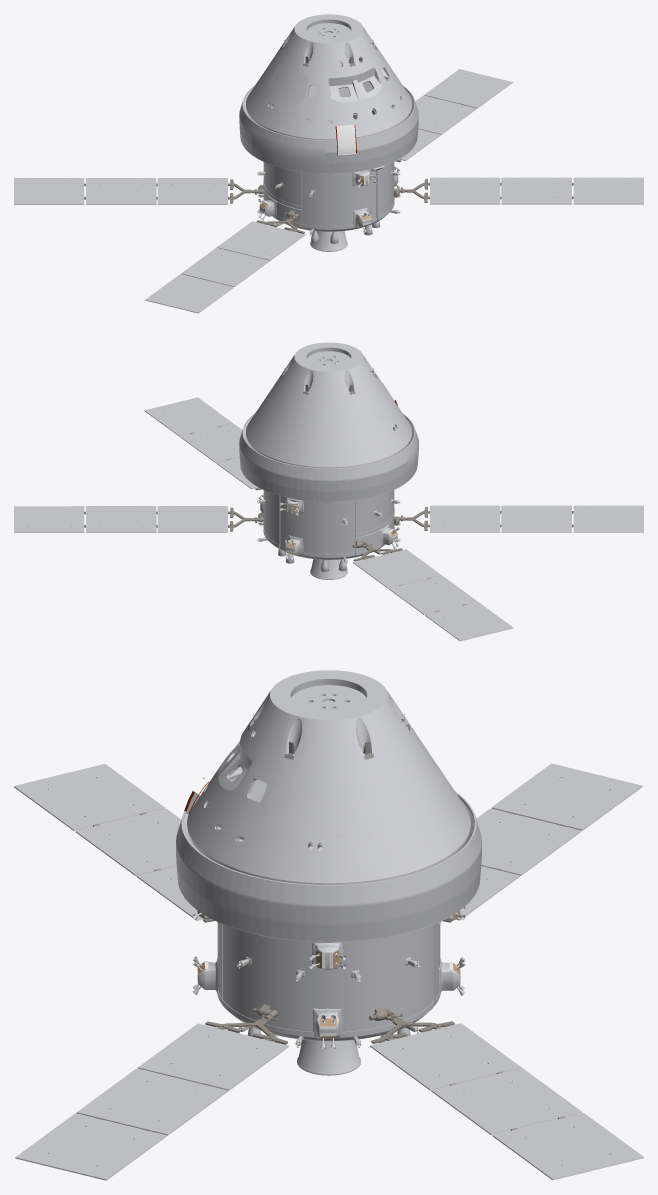
Rendered from sc_artemis.glb.
3 renders of one model, top to bottom at view 1: azimuth 30°, elevation 25°; view 2: azimuth 150°, elevation 25°; view 3: azimuth 270°, elevation 25°, orthographic. The views are drawn at different scales.
Parts seen in each view (by area): view 1: retopo_shell, outter bus.001, solarArray.005, solarArray.002, solarArray.003, solarArray.004, nasaDecal.002, Cylinder.010, CMdecal.002, Cube.017, SMClasp; view 2: retopo_shell, outter bus.001, solarArray.002, solarArray.003, solarArray.004, solarArray.005, Cylinder.010, Cube.017, CMdecal.002; view 3: retopo_shell, outter bus.001, solarArray.004, solarArray.005, solarArray.002, solarArray.003, Cylinder.010, Cube.017, retopo_shell.009, retopo_shield, retopo_shell.006.
Boxes of the visible parts, x1,y1,x2,y2 form: retopo_shell: (246, 14, 411, 139); outter bus.001: (239, 76, 418, 229); solarArray.005: (394, 177, 643, 204); solarArray.002: (145, 210, 305, 313); solarArray.003: (14, 178, 263, 204); solarArray.004: (395, 69, 512, 162); nasaDecal.002: (252, 129, 325, 169); Cylinder.010: (259, 170, 398, 231); CMdecal.002: (268, 64, 308, 101); Cube.017: (257, 166, 399, 251); SMClasp: (335, 124, 355, 154); retopo_shell: (246, 342, 411, 467); outter bus.001: (239, 413, 417, 557); solarArray.002: (394, 505, 643, 532); solarArray.003: (352, 540, 513, 641); solarArray.004: (14, 506, 263, 532); solarArray.005: (144, 397, 261, 490); Cylinder.010: (260, 498, 397, 559); Cube.017: (258, 494, 399, 579); CMdecal.002: (369, 382, 394, 421); retopo_shell: (187, 670, 470, 883); outter bus.001: (176, 773, 481, 1037); solarArray.004: (369, 1007, 643, 1180); solarArray.005: (15, 1004, 288, 1180); solarArray.002: (14, 764, 214, 922); solarArray.003: (443, 763, 642, 922); Cylinder.010: (197, 910, 460, 1041); Cube.017: (192, 907, 465, 1075); retopo_shell.009: (318, 834, 350, 880); retopo_shield: (187, 828, 470, 884); retopo_shell.006: (257, 753, 294, 785).
Bounding box in the file's own units: 1.66 × 0.6833 × 1.06.
Materials: 24 (14 with a texture image).
